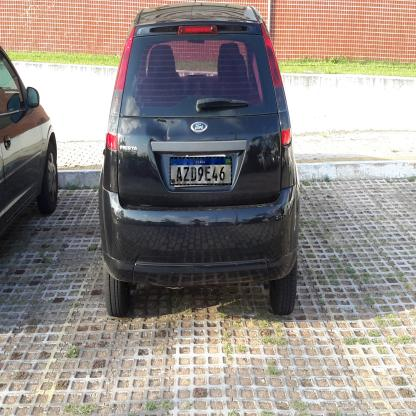PlacaM: (170, 156, 232, 186)
